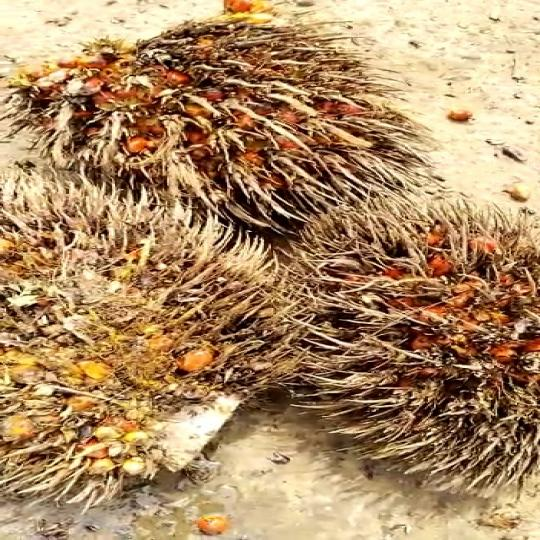terlalu masak: (3, 13, 414, 227), (286, 209, 539, 490)
